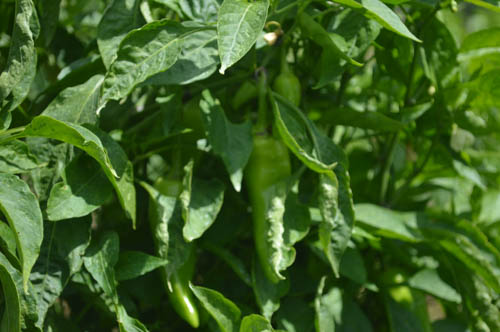ChiliPepper: (153, 180, 201, 326), (246, 138, 289, 281)
